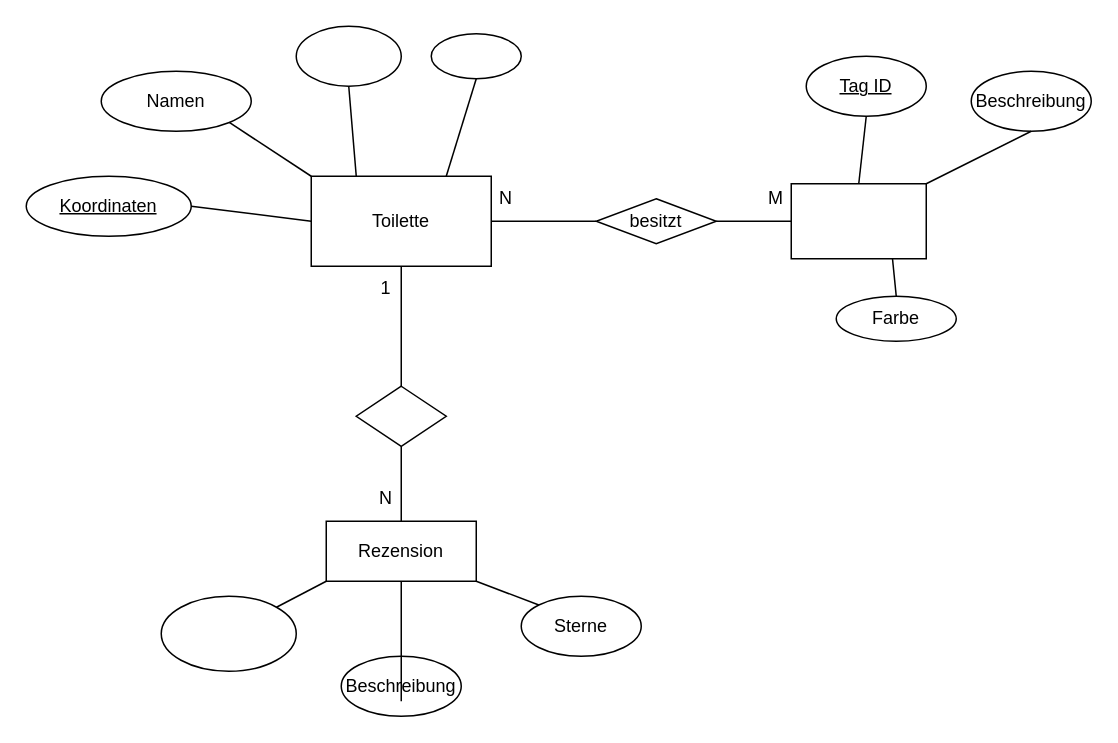
This 1118x743 diagram has some shape labels left out. Here are the shapes that lost their labels. From the top down, the centre of each, then its label:
At point (348, 55): "Art".
At point (475, 55): "Anzahl".
At point (858, 220): "Tag".
At point (400, 415): "hat".
At point (228, 633): "Rezensions-ID".
